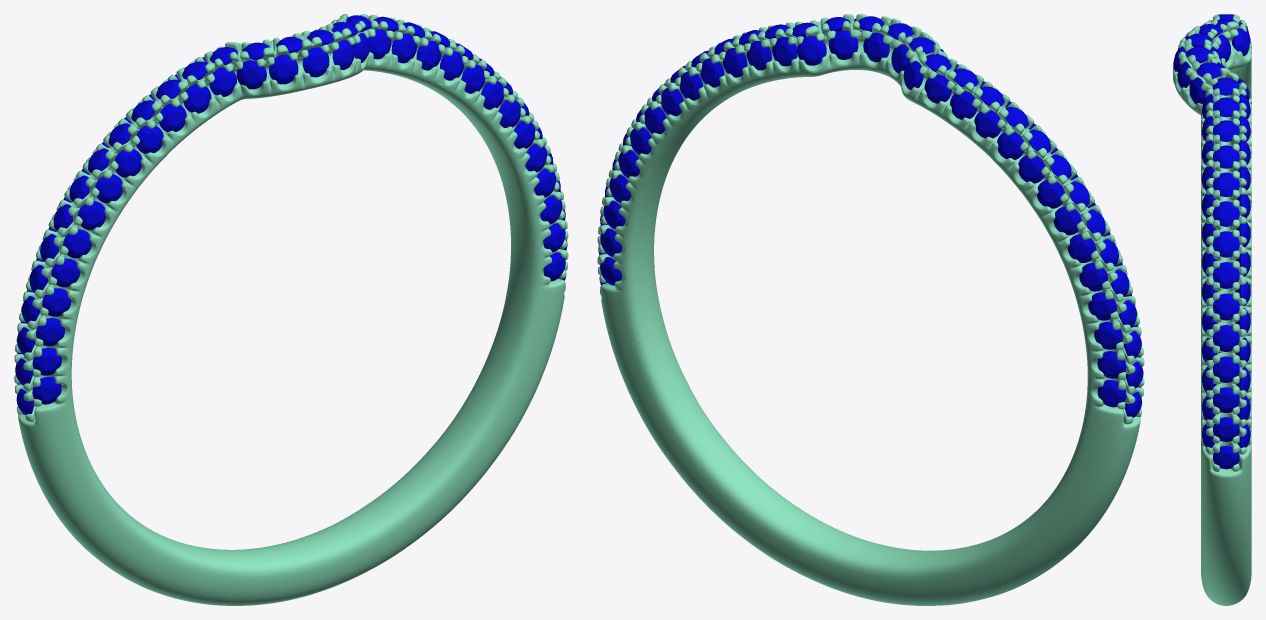
The picture shows the model from 3 angles, left to right: view 1: azimuth 30°, elevation 25°; view 2: azimuth 150°, elevation 25°; view 3: azimuth 270°, elevation 25°; orthographic projection. The views are drawn at different scales.
Parts seen in each view (by area): view 1: Metal03; view 2: Metal03; view 3: Metal03, Diamond_Band.051, Diamond_Band.050, Diamond_Band.052, Diamond_Band.053, Diamond_Band.049, Diamond_Band.048, Diamond_Band.054, Diamond_Band.047, Diamond_Band.055, Diamond_Band.046, Diamond_Band.056 (+38 smaller).
Part boxes in pixels (box(x1,y1,x2,y2)): Metal03: box(14, 14, 568, 605); Metal03: box(597, 14, 1144, 605); Metal03: box(1173, 14, 1251, 605); Diamond_Band.051: box(1213, 293, 1239, 320); Diamond_Band.050: box(1213, 325, 1239, 351); Diamond_Band.052: box(1213, 262, 1239, 288); Diamond_Band.053: box(1213, 231, 1239, 257); Diamond_Band.049: box(1213, 356, 1239, 382); Diamond_Band.048: box(1213, 387, 1239, 412); Diamond_Band.054: box(1213, 201, 1239, 226); Diamond_Band.047: box(1213, 417, 1239, 441); Diamond_Band.055: box(1213, 172, 1239, 196); Diamond_Band.046: box(1213, 445, 1239, 469); Diamond_Band.056: box(1213, 145, 1239, 168).
Bounding box in the file's own units: 20.77 × 20.86 × 2.78.
